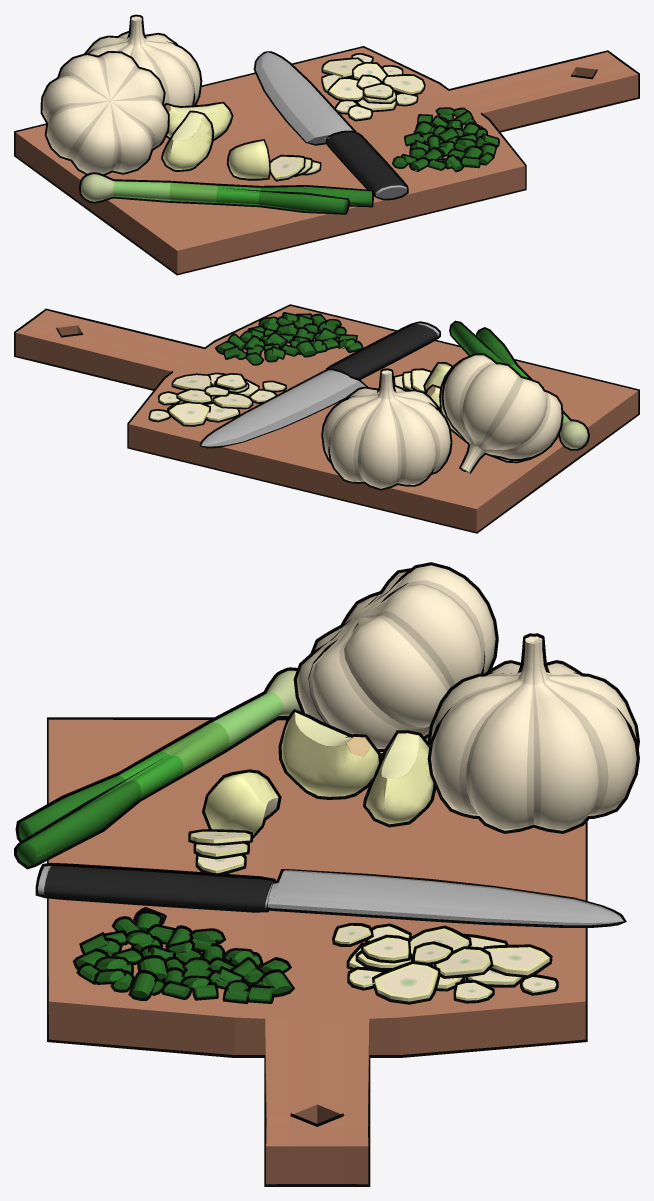
The model's file is cutting_board.glb.
The picture shows the model from 3 angles, top to bottom: view 1: azimuth 30°, elevation 25°; view 2: azimuth 150°, elevation 25°; view 3: azimuth 270°, elevation 25°; orthographic projection. The views are drawn at different scales.
Parts seen in each view (by area): view 1: cutting board, garlic.001, knife, ceapa, garlic, clove.002, cutClove, clove.001, slice2.003, slice.001, slice2.004, slice2.007 (+2 smaller); view 2: cutting board, garlic, garlic.001, knife, ceapa, slice2.007, slice.001, slice2.004, slice, slice2.014, slice2.013, cutClove (+1 smaller); view 3: cutting board, garlic, garlic.001, knife, ceapa, clove.002, clove.001, cutClove, slice.001, slice2.007, slice2.014, slice2.013 (+2 smaller).
Boxes of the visible parts, x1,y1,x2,y2 form: cutting board: (14, 46, 639, 275); garlic.001: (40, 51, 169, 175); knife: (253, 51, 408, 200); ceapa: (79, 172, 373, 214); garlic: (84, 14, 202, 105); clove.002: (161, 110, 214, 171); cutClove: (226, 139, 270, 180); clove.001: (164, 101, 233, 140); slice2.003: (270, 154, 305, 181); slice.001: (382, 74, 425, 94); slice2.004: (327, 77, 362, 101); slice2.007: (321, 57, 363, 77); cutting board: (14, 304, 639, 533); garlic: (321, 368, 452, 490); garlic.001: (439, 353, 563, 473); knife: (200, 321, 440, 448); ceapa: (449, 320, 589, 450); slice2.007: (167, 401, 210, 426); slice.001: (171, 373, 211, 390); slice2.004: (212, 392, 253, 409); slice: (206, 402, 240, 422); slice2.014: (176, 388, 212, 404); slice2.013: (215, 373, 246, 390); cutClove: (423, 362, 452, 392); cutting board: (47, 717, 587, 1186); garlic: (427, 633, 639, 833); garlic.001: (293, 562, 498, 755); knife: (35, 862, 626, 927); ceapa: (14, 667, 300, 869); clove.002: (278, 709, 381, 799); clove.001: (363, 730, 435, 827); cutClove: (202, 769, 281, 838); slice.001: (372, 961, 440, 1004); slice2.007: (483, 944, 552, 977); slice2.014: (433, 946, 493, 978); slice2.013: (361, 934, 410, 963).
Size of the model in its own units: 9.9 by 2.2 by 5.87.
Materials: 9 (8 with a texture image).
